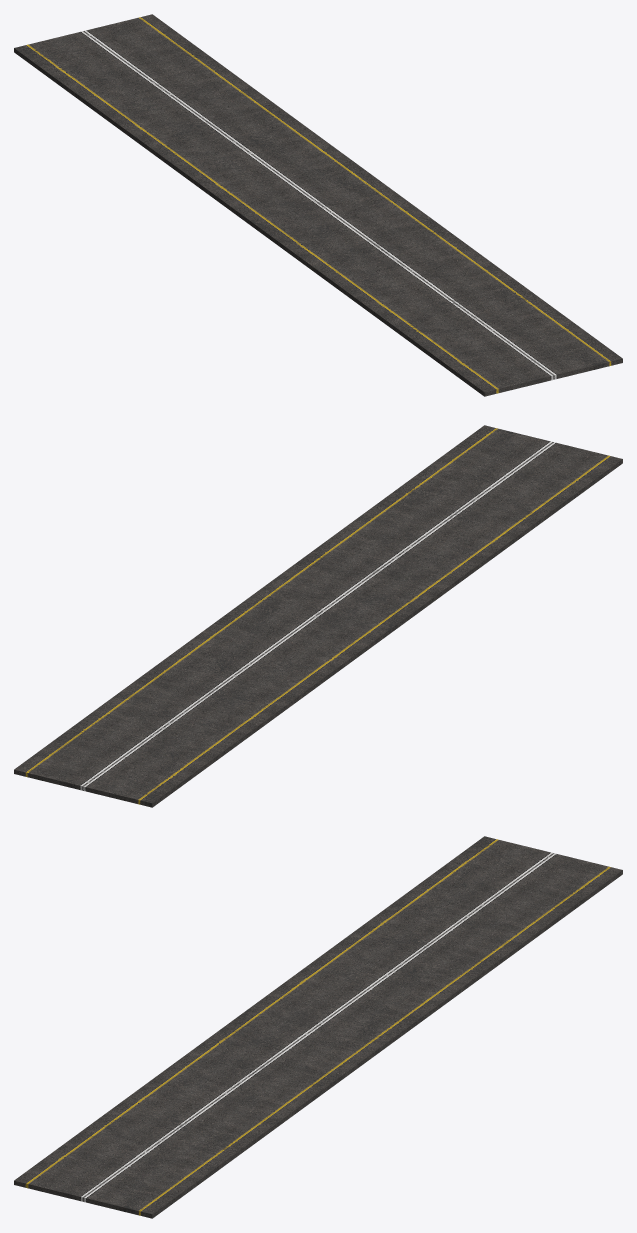
The model's file is Road_07.fbx.
3 views of the same model, one above another, from view 1: azimuth 30°, elevation 25°; view 2: azimuth 150°, elevation 25°; view 3: azimuth 330°, elevation 25° (orthographic).
Visible parts, largest first — view 1: Road_07; view 2: Road_07; view 3: Road_07.
Part boxes in pixels (bbox=[...]): Road_07: bbox=[14, 14, 622, 396]; Road_07: bbox=[14, 425, 622, 807]; Road_07: bbox=[14, 836, 622, 1218].
Bounding box in the file's own units: 999 × 29.76 × 5881.
